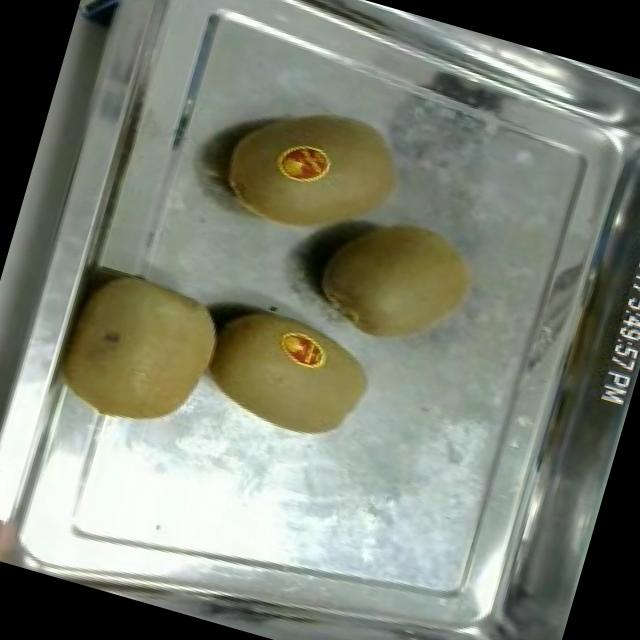Fruit: (202, 78, 424, 270), (42, 252, 240, 452), (186, 289, 390, 459), (295, 194, 490, 370), (0, 449, 50, 568)
